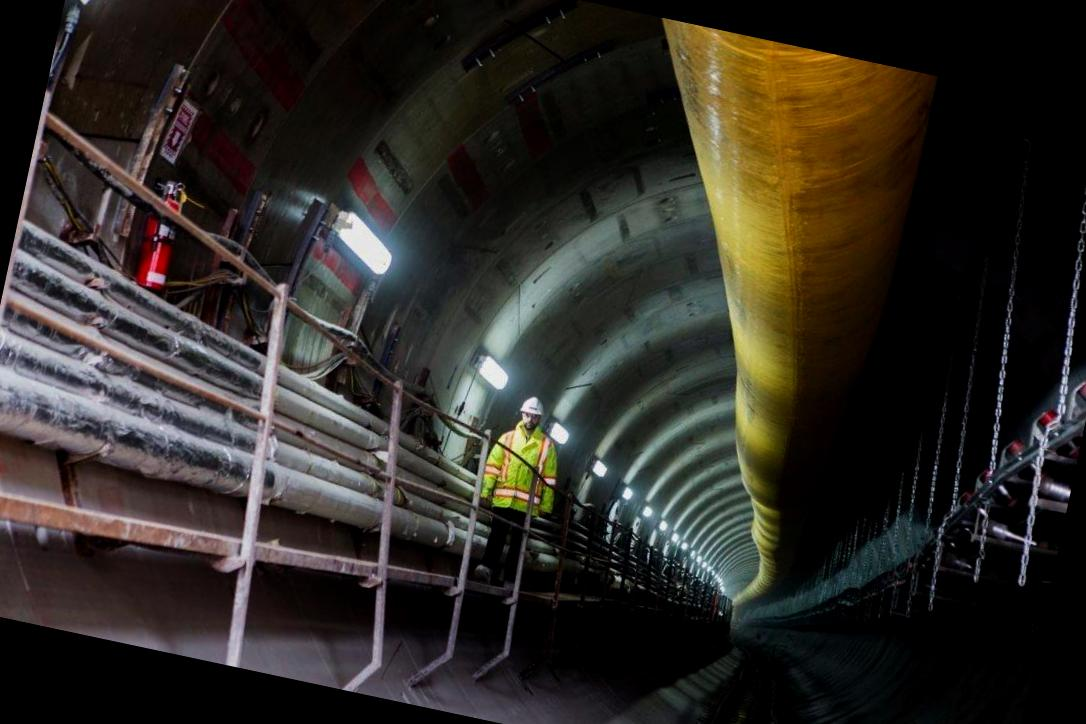helmet: (512, 394, 546, 430)
person: (460, 384, 580, 594)
